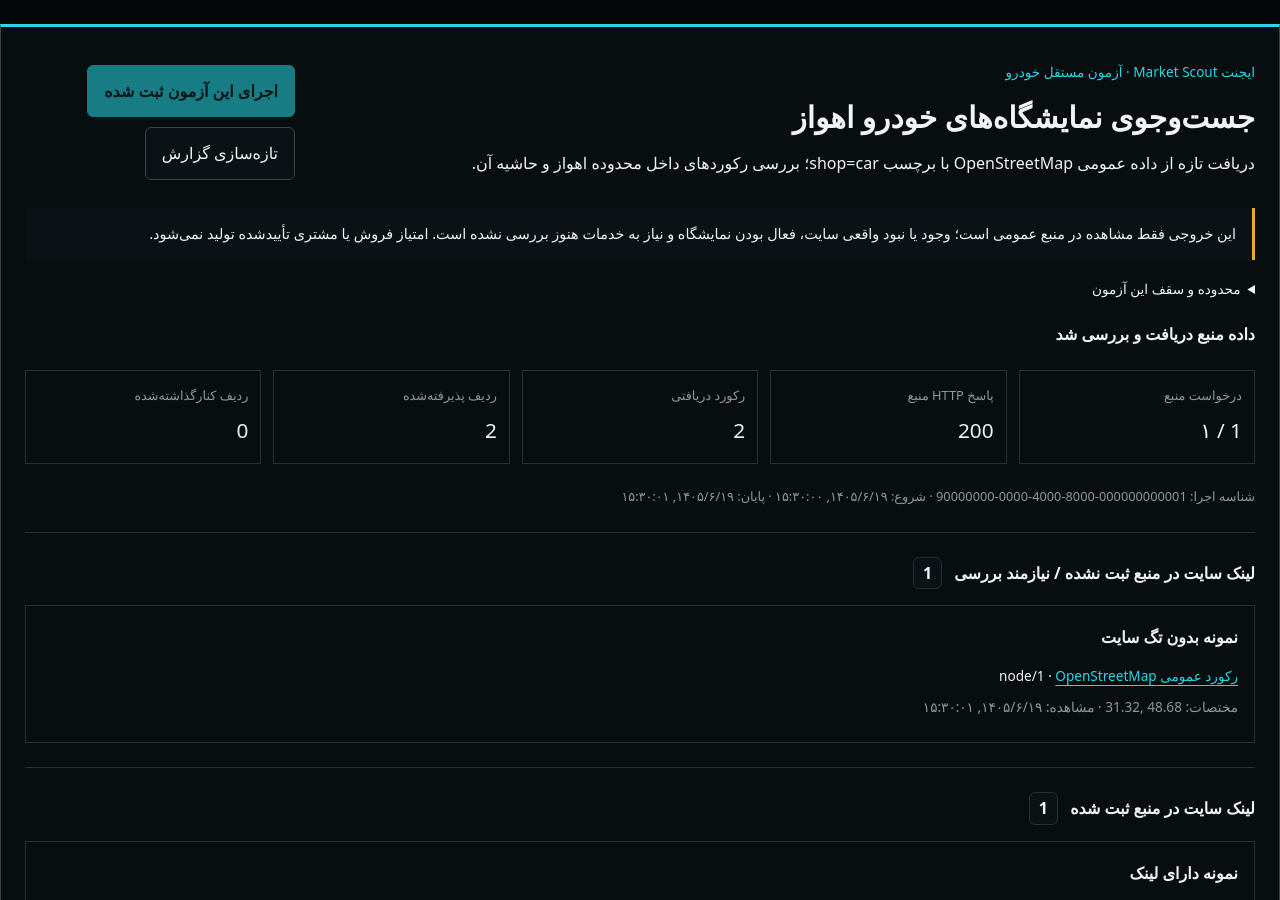
Test: Ahvaz scout visible app control › clears prior results and disables execution on a failed report read
Expected: the text "نمونه بدون تگ سایت" is shown, [1101,626,1238,648]
What coordinates should you click on to do the following:
click the button "تازه‌سازی گزارش"
I would click on:
 (220, 154)
Its box is [145,127,295,180].
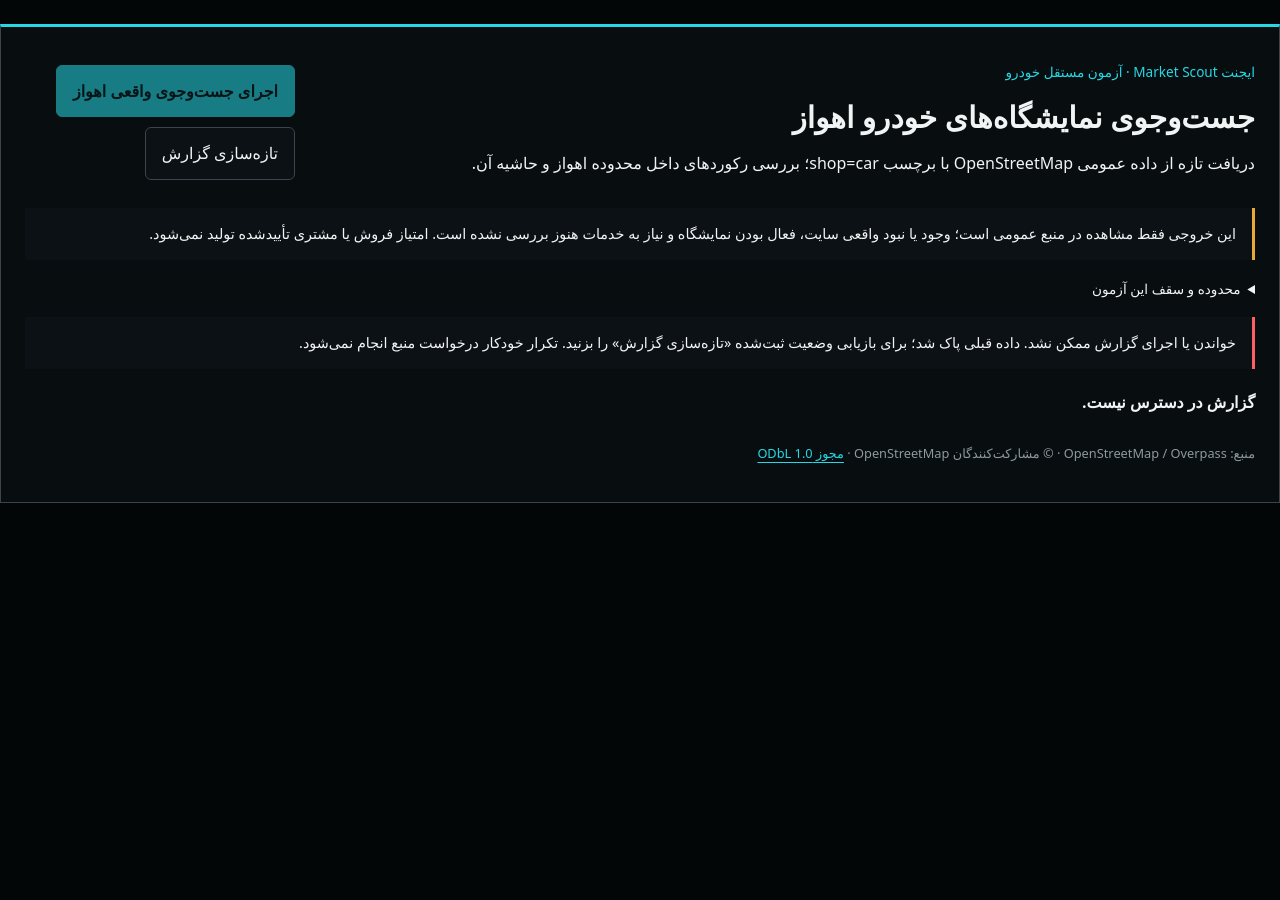
Expected: the button "اجرای جست‌وجوی واقعی اهواز" is disabled, [56,65,295,117]
Expected: the 1st message is shown, [25,317,1255,369]
Expected: the text "نمونه بدون تگ سایت" is gone
